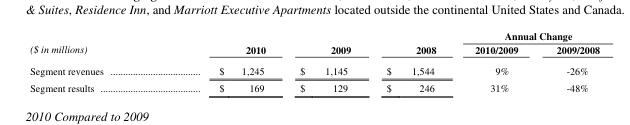table: (29, 28, 598, 94)
table column: (29, 28, 160, 94), (160, 28, 282, 94), (282, 28, 368, 94), (368, 28, 454, 94), (454, 28, 536, 94), (536, 28, 598, 94)
table column header: (29, 28, 598, 59)
table row: (29, 59, 598, 78), (29, 42, 598, 59), (29, 78, 598, 94), (29, 28, 598, 42)
table spanning cell: (29, 28, 160, 59), (160, 28, 282, 59), (282, 28, 368, 59), (368, 28, 454, 59), (454, 28, 598, 42)
